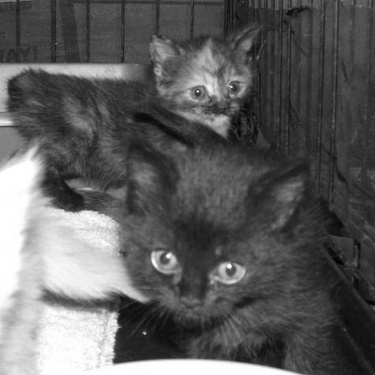cat: (10, 18, 261, 214), (126, 146, 337, 371), (62, 92, 176, 213)
